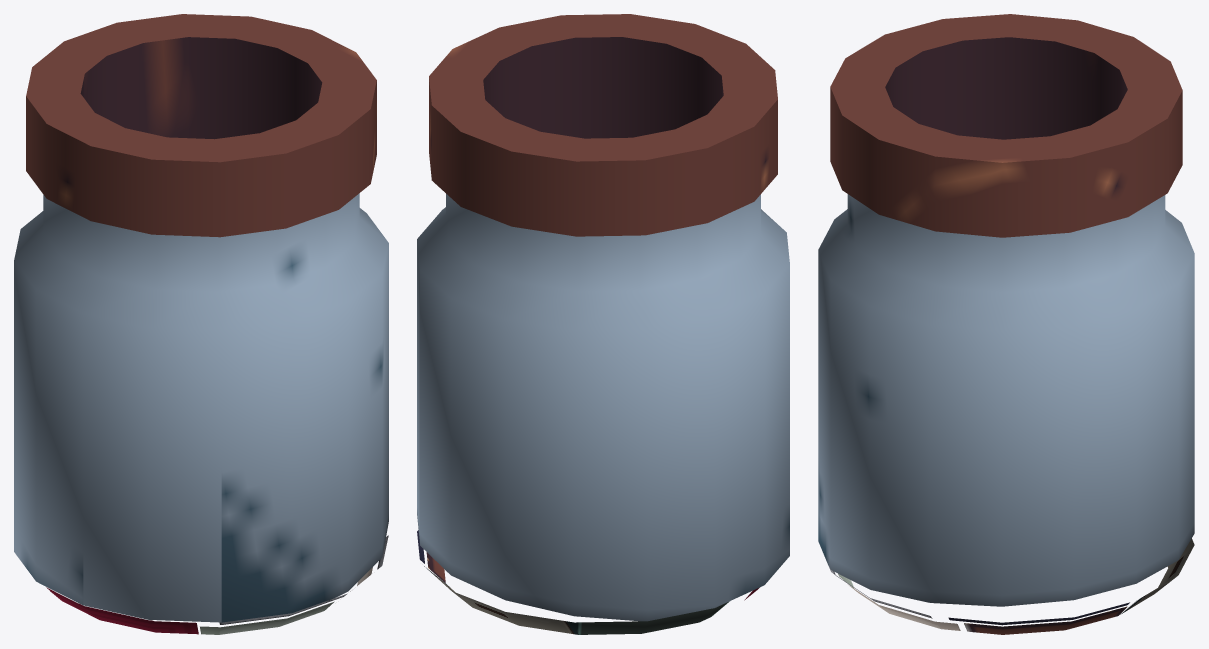
File: Vaso.fbx
3 views of the same model, side by side, from view 1: azimuth 30°, elevation 25°; view 2: azimuth 150°, elevation 25°; view 3: azimuth 270°, elevation 25° (orthographic).
Visible parts, largest first — view 1: Vaso; view 2: Vaso; view 3: Vaso.
Boxes of the visible parts, bbox=[...] form: Vaso: bbox=[14, 14, 388, 634]; Vaso: bbox=[417, 14, 789, 634]; Vaso: bbox=[818, 14, 1194, 634].
Size of the model in its own units: 25.47 by 25.47 by 35.71.
